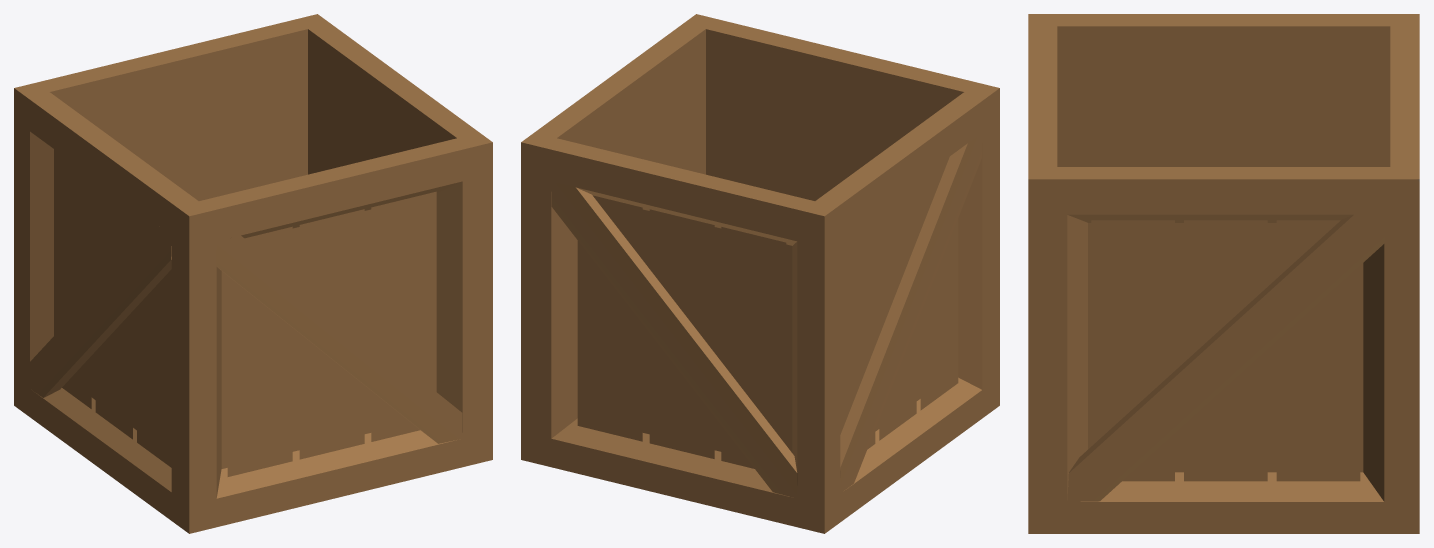
File: Box_Wooden.fbx
3 renders of one model, left to right at view 1: azimuth 30°, elevation 25°; view 2: azimuth 150°, elevation 25°; view 3: azimuth 270°, elevation 25°, orthographic. The views are drawn at different scales.
Parts seen in each view (by area): view 1: wooden_box; view 2: wooden_box; view 3: wooden_box.
Part boxes in pixels (x1,y1,x2,y2): wooden_box: (14,14,492,533); wooden_box: (521,14,999,533); wooden_box: (1028,14,1419,533).
Bounding box in the file's own units: 1 × 1 × 1.
1 material, 1 textured.
